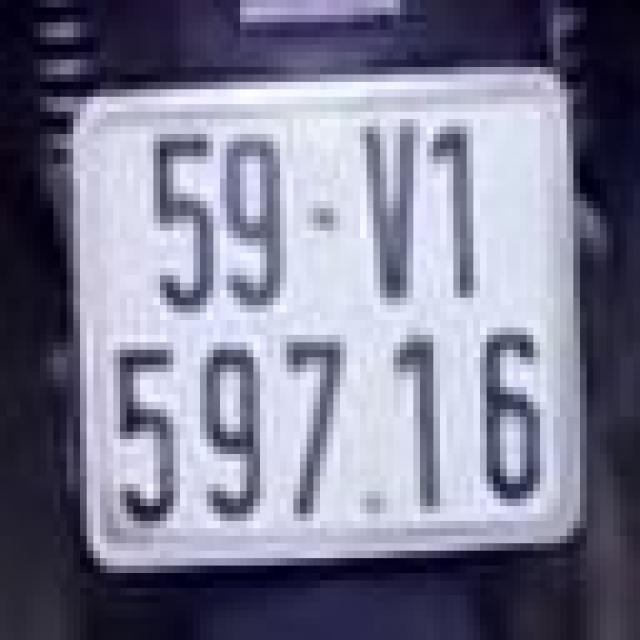1: (387, 323, 453, 524), (430, 108, 483, 301)
5: (144, 119, 224, 320), (100, 328, 180, 528)
6: (470, 320, 543, 513)
7: (276, 323, 356, 524)
9: (190, 331, 263, 532), (223, 119, 297, 313)
V: (350, 97, 423, 320)
